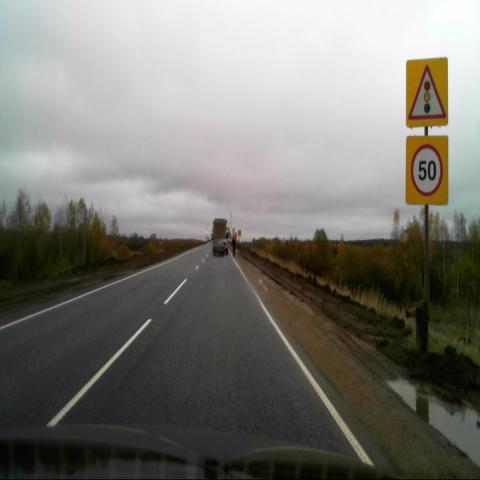1_8: (406, 56, 448, 127)
